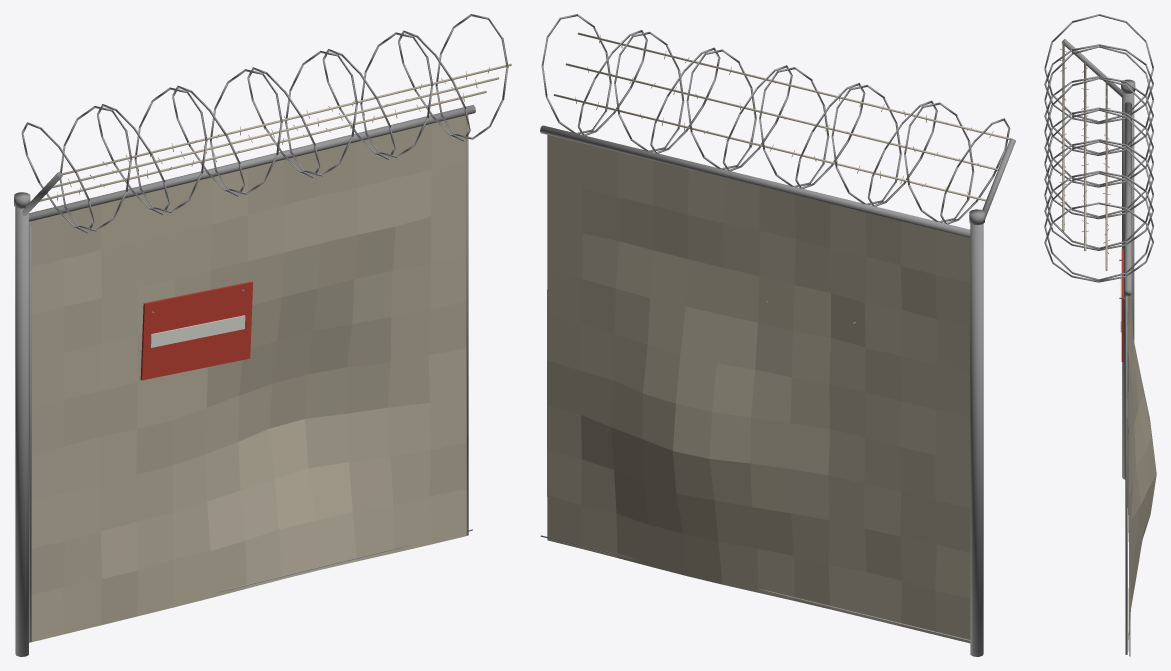
The model's file is hood_fence_chain_b.glb.
3 views of the same model, side by side, from view 1: azimuth 30°, elevation 25°; view 2: azimuth 150°, elevation 25°; view 3: azimuth 270°, elevation 25° (orthographic). The views are drawn at different scales.
Parts seen in each view (by area): view 1: hood_fence_chain_b, arm.003, sign, barb.115, sign_band; view 2: hood_fence_chain_b, arm.003, barb.115; view 3: arm.003, hood_fence_chain_b, barb.115, sign.
Boxes of the visible parts, box(x1,y1,x2,y2) form: hood_fence_chain_b: box(29, 115, 468, 642); arm.003: box(14, 14, 508, 656); sign: box(140, 281, 252, 380); barb.115: box(39, 63, 511, 201); sign_band: box(150, 315, 245, 347); hood_fence_chain_b: box(547, 135, 970, 643); arm.003: box(540, 14, 1015, 656); barb.115: box(553, 32, 1012, 201); arm.003: box(1044, 14, 1153, 656); hood_fence_chain_b: box(1127, 295, 1156, 650); barb.115: box(1059, 40, 1110, 270); sign: box(1121, 248, 1123, 361).
Bounding box in the file's own units: 2.54 × 2.85 × 0.6262.
